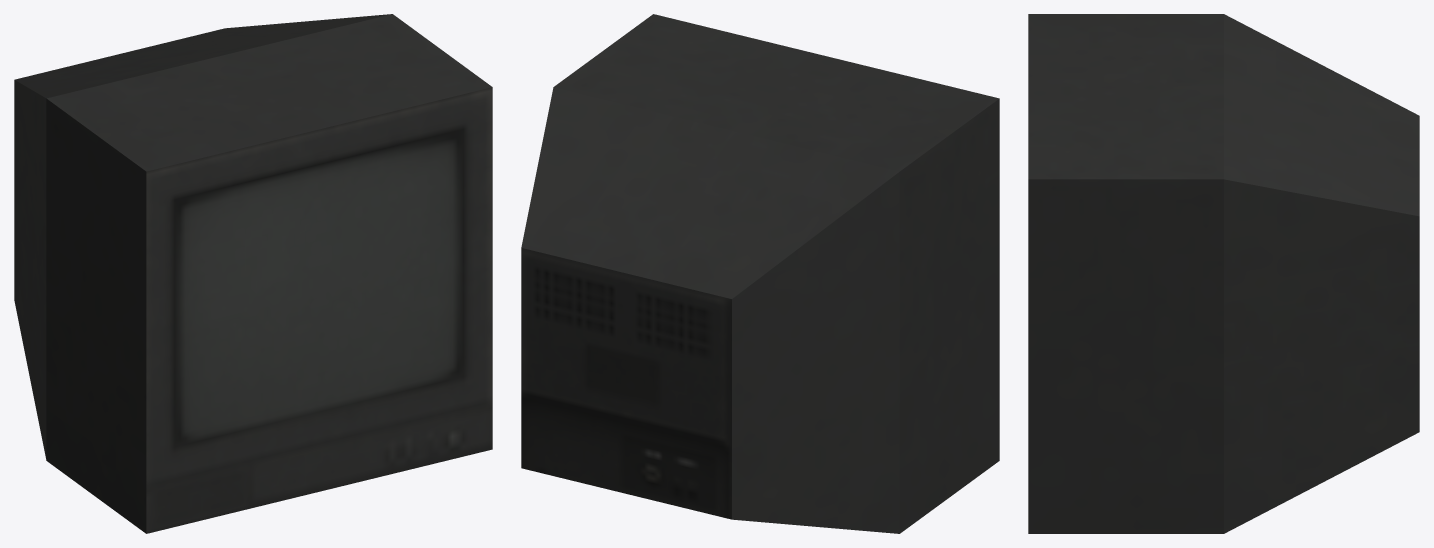
3 views of the same model, side by side, from view 1: azimuth 30°, elevation 25°; view 2: azimuth 150°, elevation 25°; view 3: azimuth 270°, elevation 25° (orthographic). The views are drawn at different scales.
Parts seen in each view (by area): view 1: TV; view 2: TV; view 3: TV.
Part boxes in pixels (left/top/right/bottom): TV: left=14, top=14, right=492, bottom=533; TV: left=521, top=14, right=999, bottom=533; TV: left=1028, top=14, right=1419, bottom=533.
Size of the model in its own units: 200 by 200 by 200.
